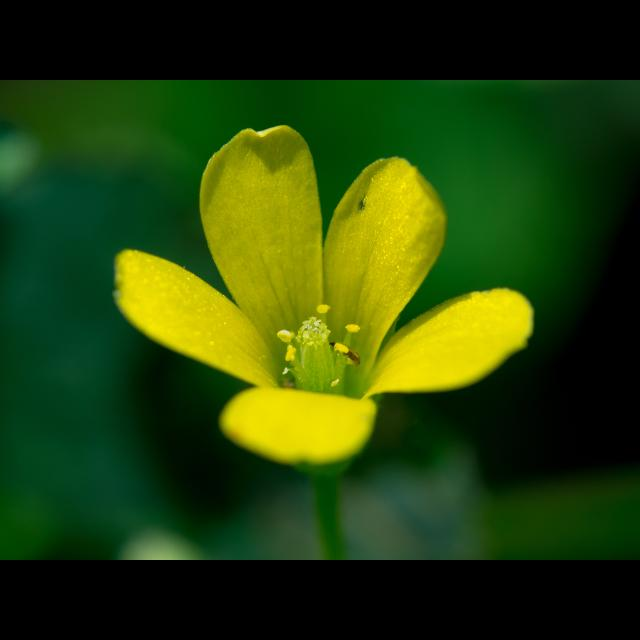Flower: (111, 120, 531, 472)
